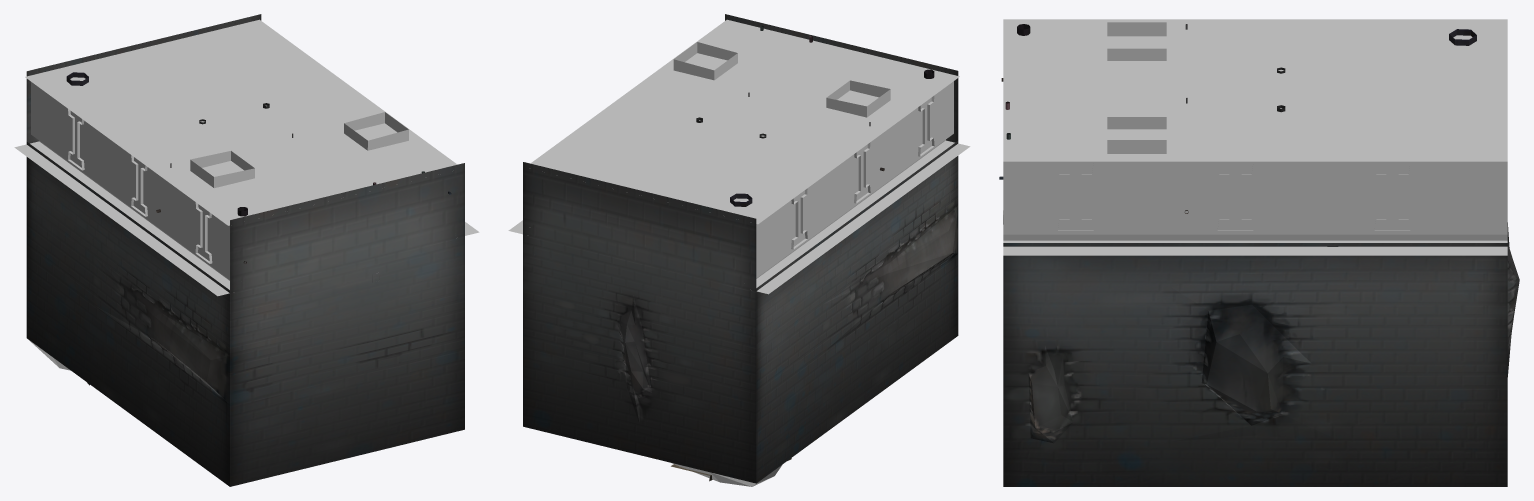
File: FacilityRoom.fbx
3 renders of one model, left to right at view 1: azimuth 30°, elevation 25°; view 2: azimuth 150°, elevation 25°; view 3: azimuth 270°, elevation 25°, orthographic. The views are drawn at different scales.
Visible parts, largest first — view 1: Wall_N, Ceiling_block, Wall_E, Side_R1, polySurface4, Wall_S; view 2: Wall_S, Ceiling_block, Wall_E, Side_R1, polySurface4, Wall_N, Floor_01; view 3: Wall_W, Ceiling_block, Side_L, polySurface4, Wall_S.
Part boxes in pixels (x1,y1,x2,y2): Wall_N: (230, 163, 464, 486); Ceiling_block: (25, 19, 457, 225); Wall_E: (26, 142, 229, 486); Side_R1: (14, 82, 229, 296); polySurface4: (190, 112, 408, 188); Wall_S: (26, 14, 261, 143); Wall_S: (523, 162, 756, 483); Ceiling_block: (530, 19, 959, 224); Wall_E: (756, 141, 958, 483); Side_R1: (756, 81, 970, 294); polySurface4: (673, 42, 890, 117); Wall_N: (725, 14, 958, 142); Floor_01: (672, 463, 782, 486); Wall_W: (1003, 243, 1507, 486); Ceiling_block: (1003, 19, 1507, 161); Side_L: (1003, 161, 1507, 255); polySurface4: (1107, 22, 1166, 153); Wall_S: (1507, 222, 1519, 376).
Bounding box in the file's own units: 3.4 × 3.59 × 4.72.
